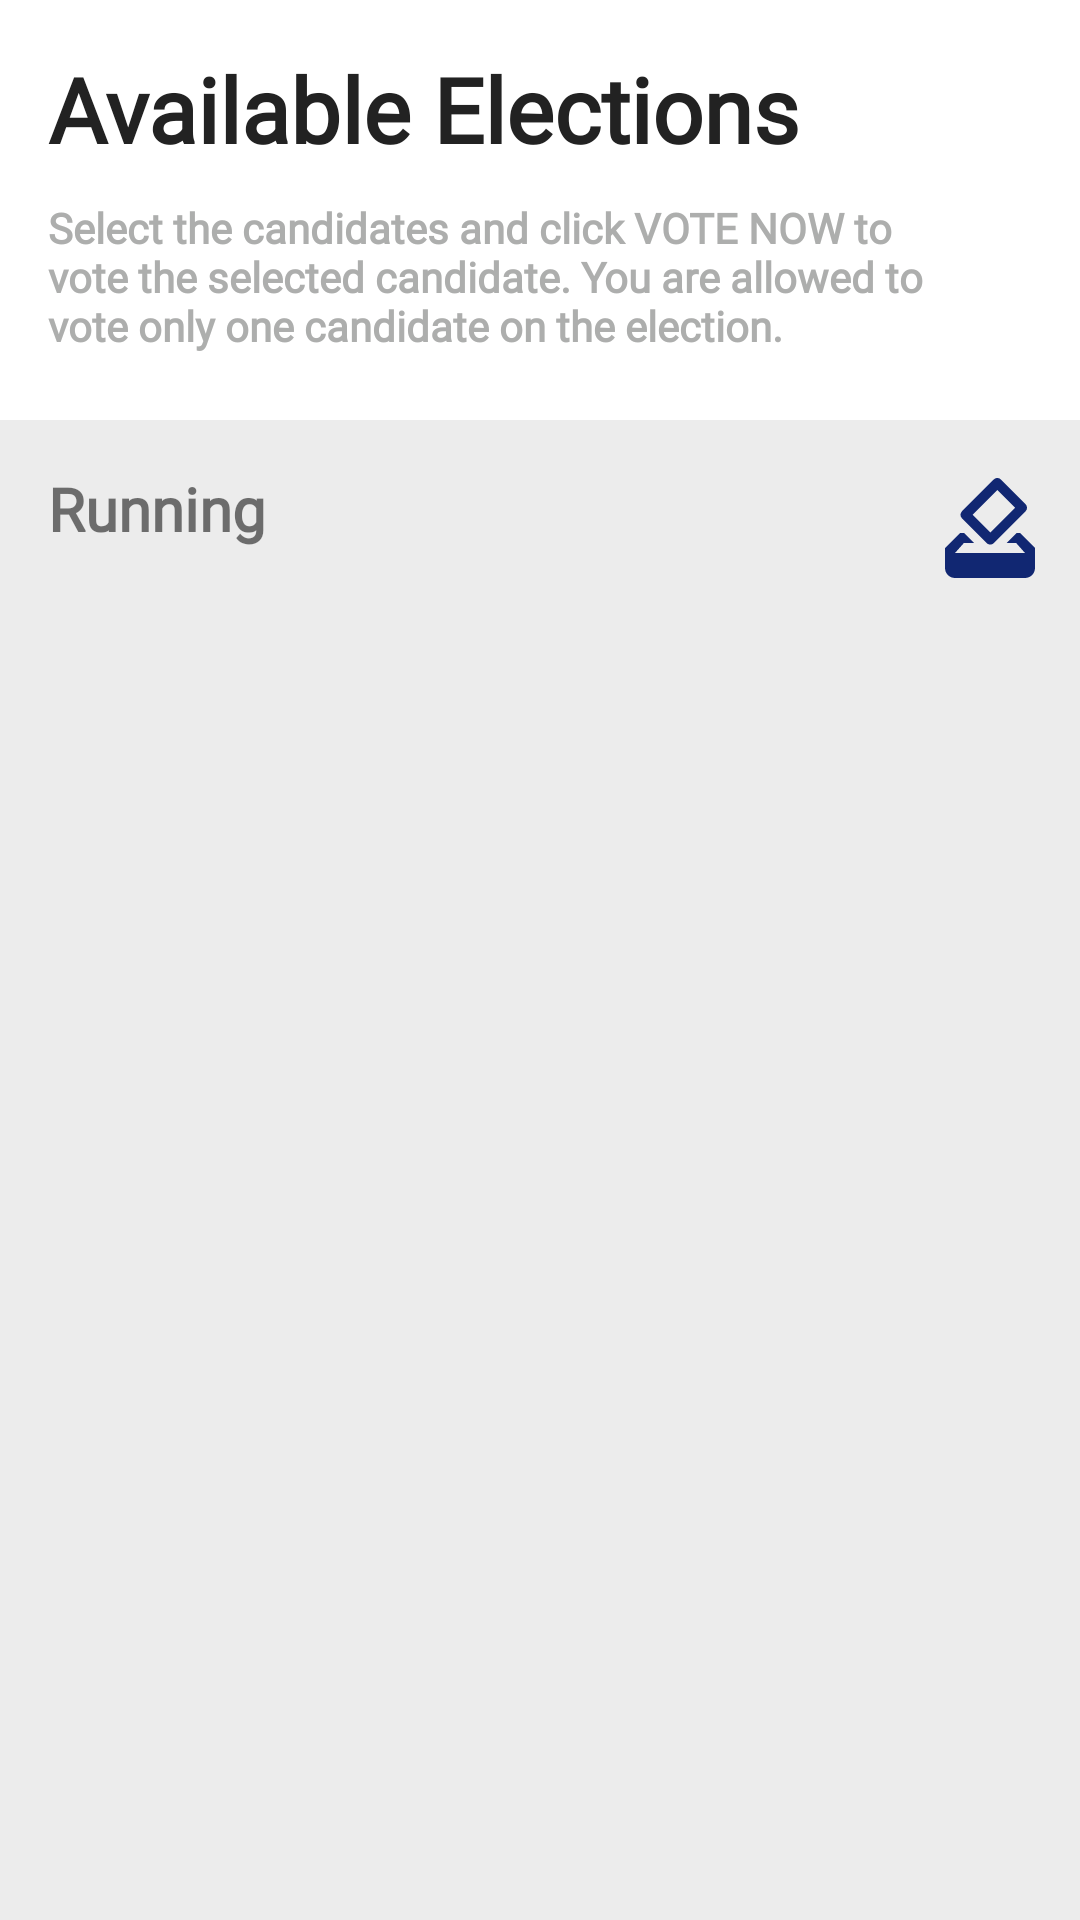

Point at icon controls on the screen. Image size 1080w x 1920h, points as point (x, y).
vote running: point (990, 528)
